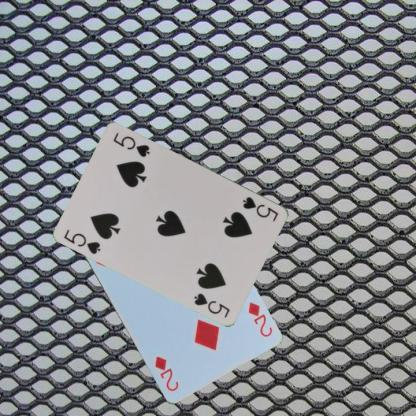2d: (245, 299, 273, 339)
5s: (62, 226, 102, 256), (240, 194, 280, 223)
